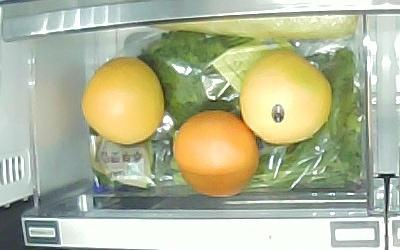grapefruit: (241, 52, 331, 144), (174, 110, 260, 197), (81, 57, 166, 145)
